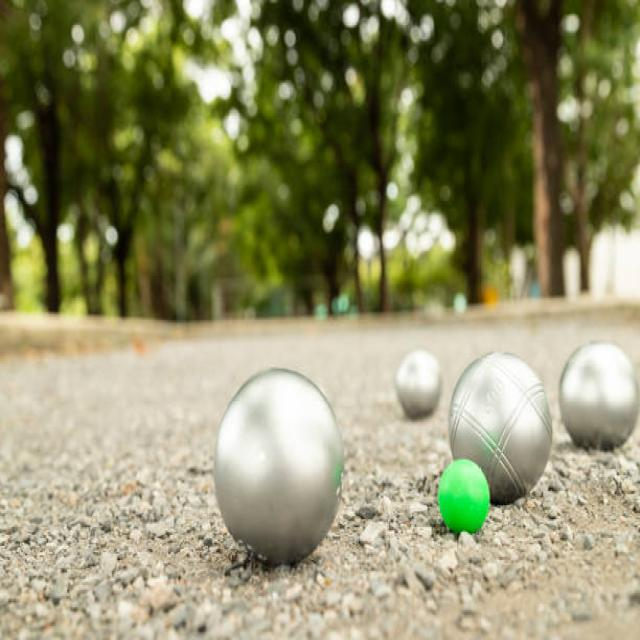hatball: (427, 452, 493, 538)
petanque: (207, 358, 354, 584), (443, 348, 560, 514), (556, 332, 639, 463), (392, 341, 450, 428)
